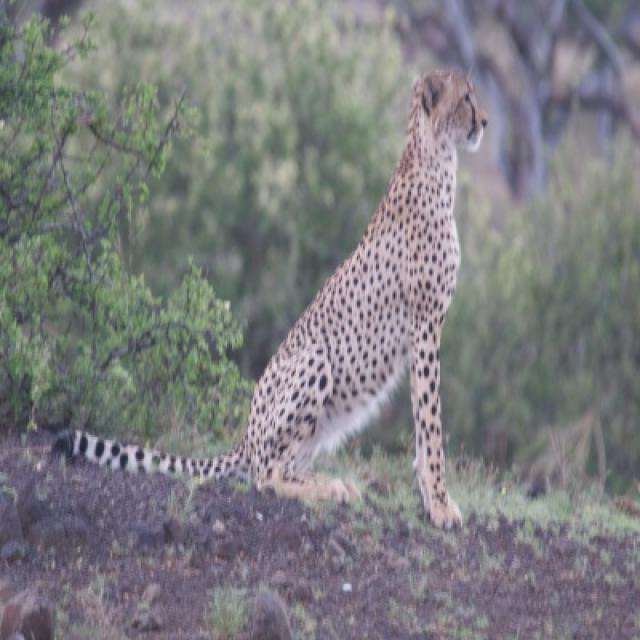Cheetah: (56, 70, 490, 530)
